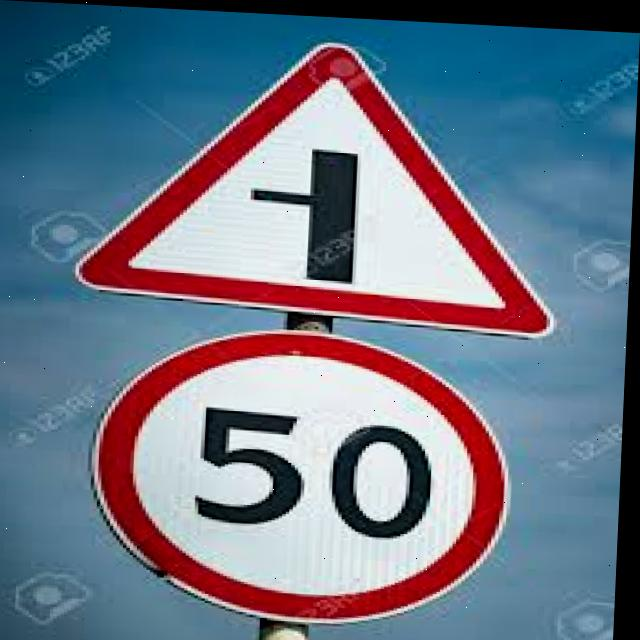Speed limit 50: (85, 317, 522, 630)
